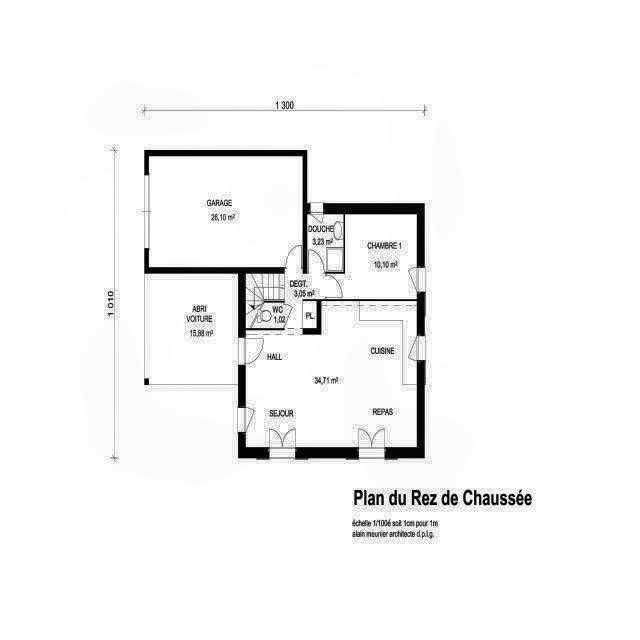room: (246, 301, 417, 447), (149, 156, 303, 266), (326, 214, 417, 299), (285, 274, 325, 328), (307, 214, 344, 272), (246, 274, 284, 328)
